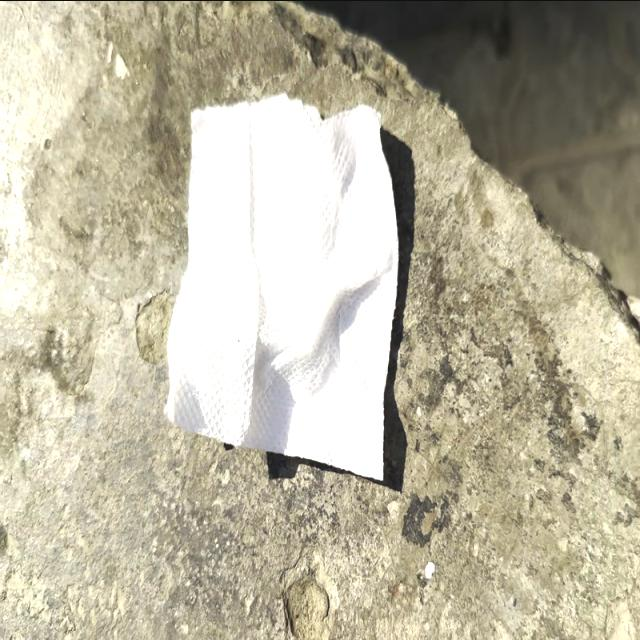tissue: (162, 88, 398, 489)
